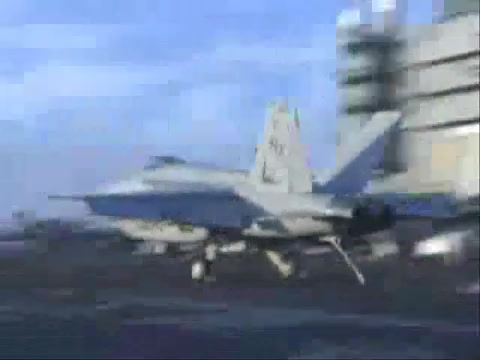aeroplane: (45, 96, 404, 288)
